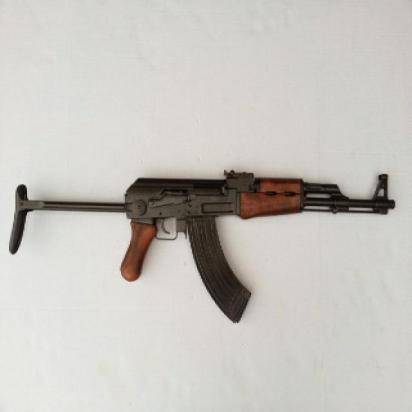Gun: (1, 158, 398, 325)
